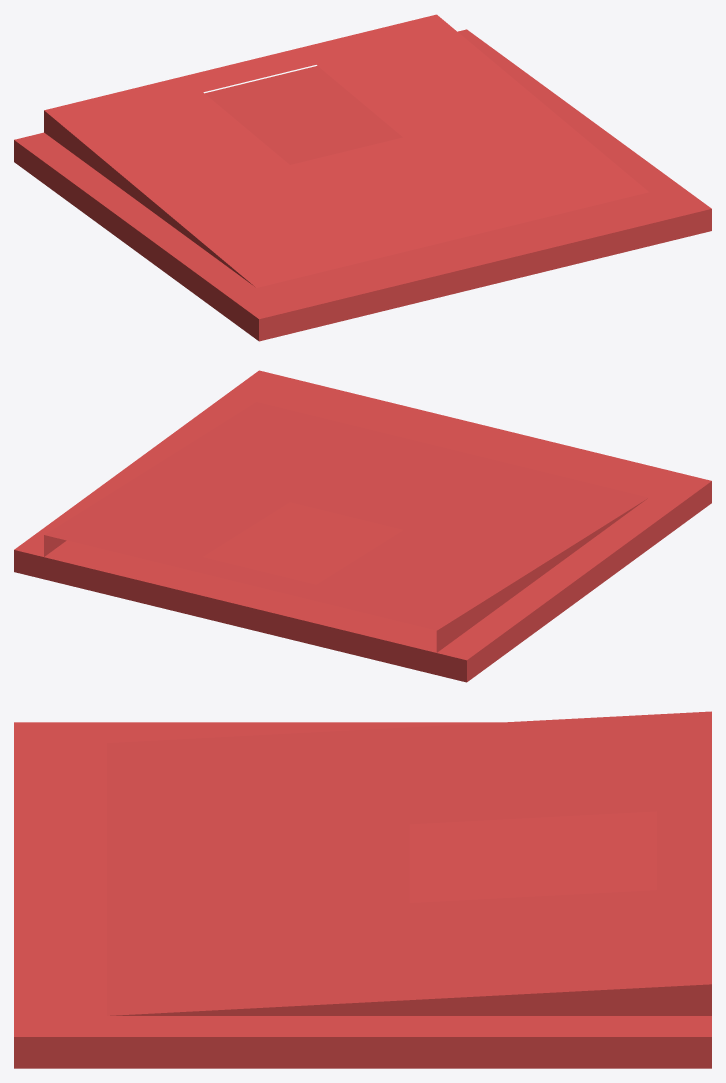
File: original_2.obj
3 views of the same model, one above another, from view 1: azimuth 30°, elevation 25°; view 2: azimuth 150°, elevation 25°; view 3: azimuth 270°, elevation 25° (orthographic). The views are drawn at different scales.
Parts seen in each view (by area): view 1: #ID11; view 2: #ID11; view 3: #ID11.
Part boxes in pixels (x1,y1,x2,y2): #ID11: (14, 14, 711, 341); #ID11: (14, 370, 711, 682); #ID11: (14, 711, 711, 1068).
Bounding box in the file's own units: 1.05 × 0.0988 × 0.9882.
